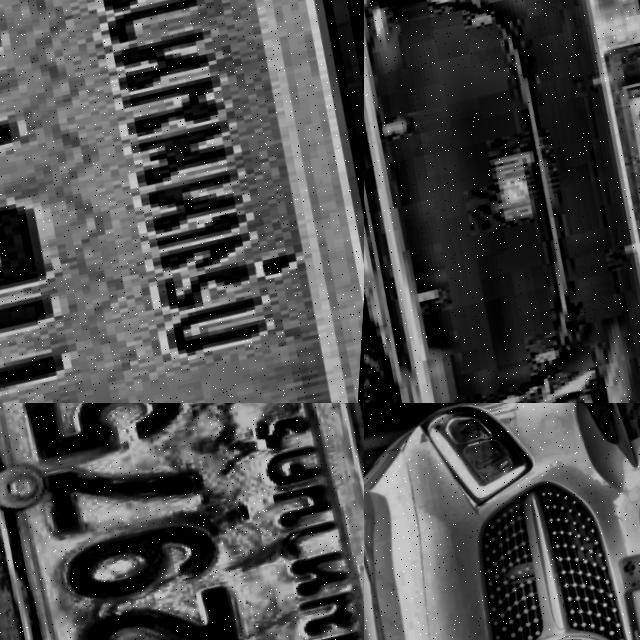license-plate: (0, 0, 364, 403), (0, 403, 364, 640), (604, 59, 640, 241)
